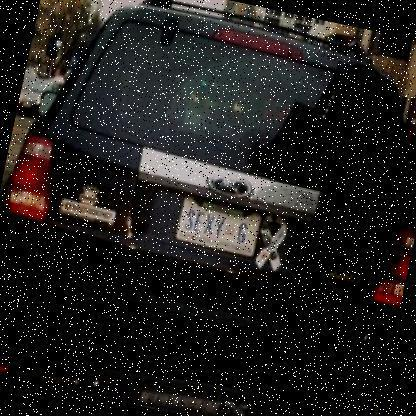License-Plate: (171, 191, 266, 261)
